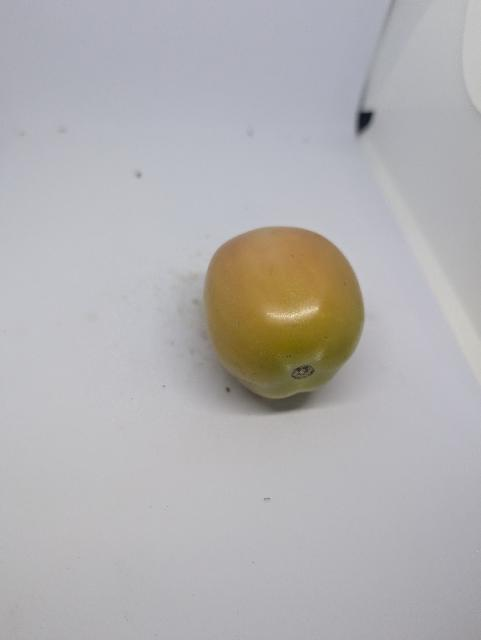breaker: (203, 225, 368, 406)
